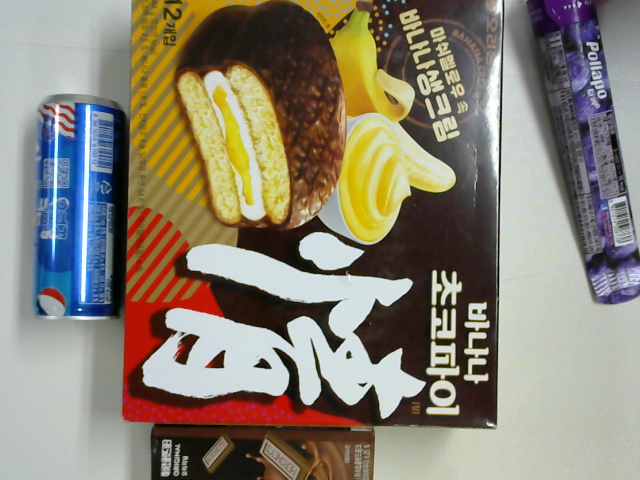Choco_Pie_Banana: (124, 1, 498, 431)
Hush_Choco_Drink: (145, 422, 375, 480)
Pepsi_Cola_Can_250ml: (28, 95, 130, 321)
Polapo_Grape: (521, 1, 640, 306)
